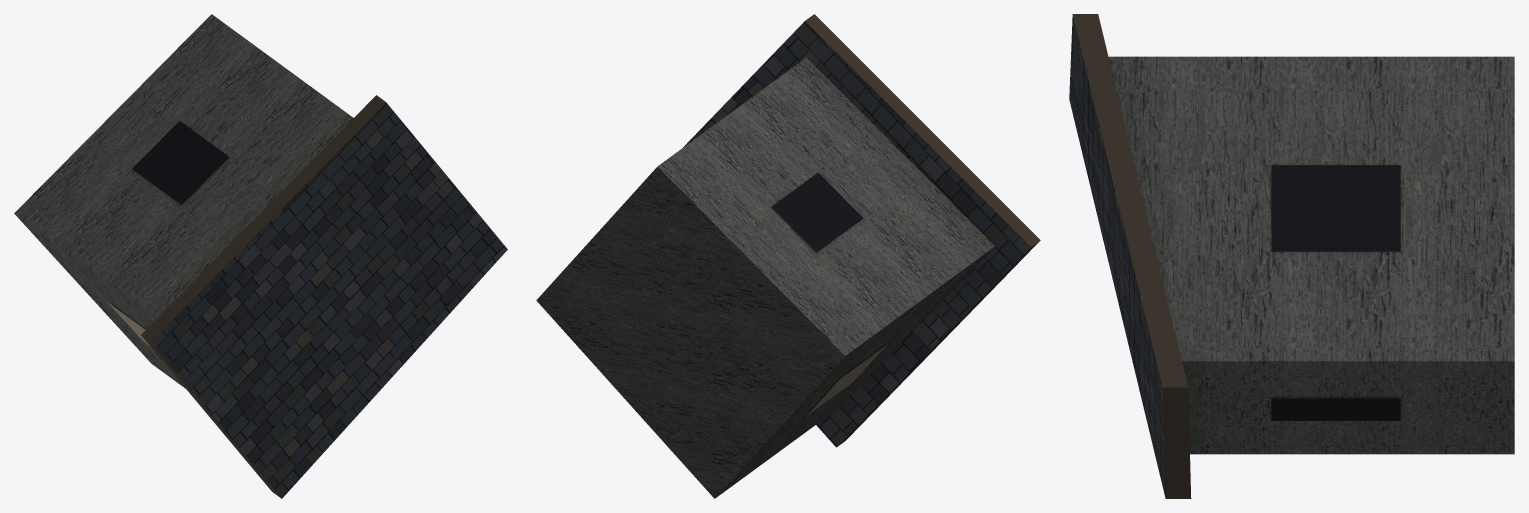
The model's file is house_b0493.obj.
The picture shows the model from 3 angles, left to right: view 1: azimuth 30°, elevation 25°; view 2: azimuth 150°, elevation 25°; view 3: azimuth 270°, elevation 25°; orthographic projection. The views are drawn at different scales.
Visible parts, largest first — view 1: house_b0493; view 2: house_b0493; view 3: house_b0493.
Part boxes in pixels (x1,y1,x2,y2): house_b0493: (14,14,507,498); house_b0493: (536,14,1040,498); house_b0493: (1069,14,1514,498).
Bounding box in the file's own units: 5.55 × 5.48 × 4.18.
1 material, 1 textured.
